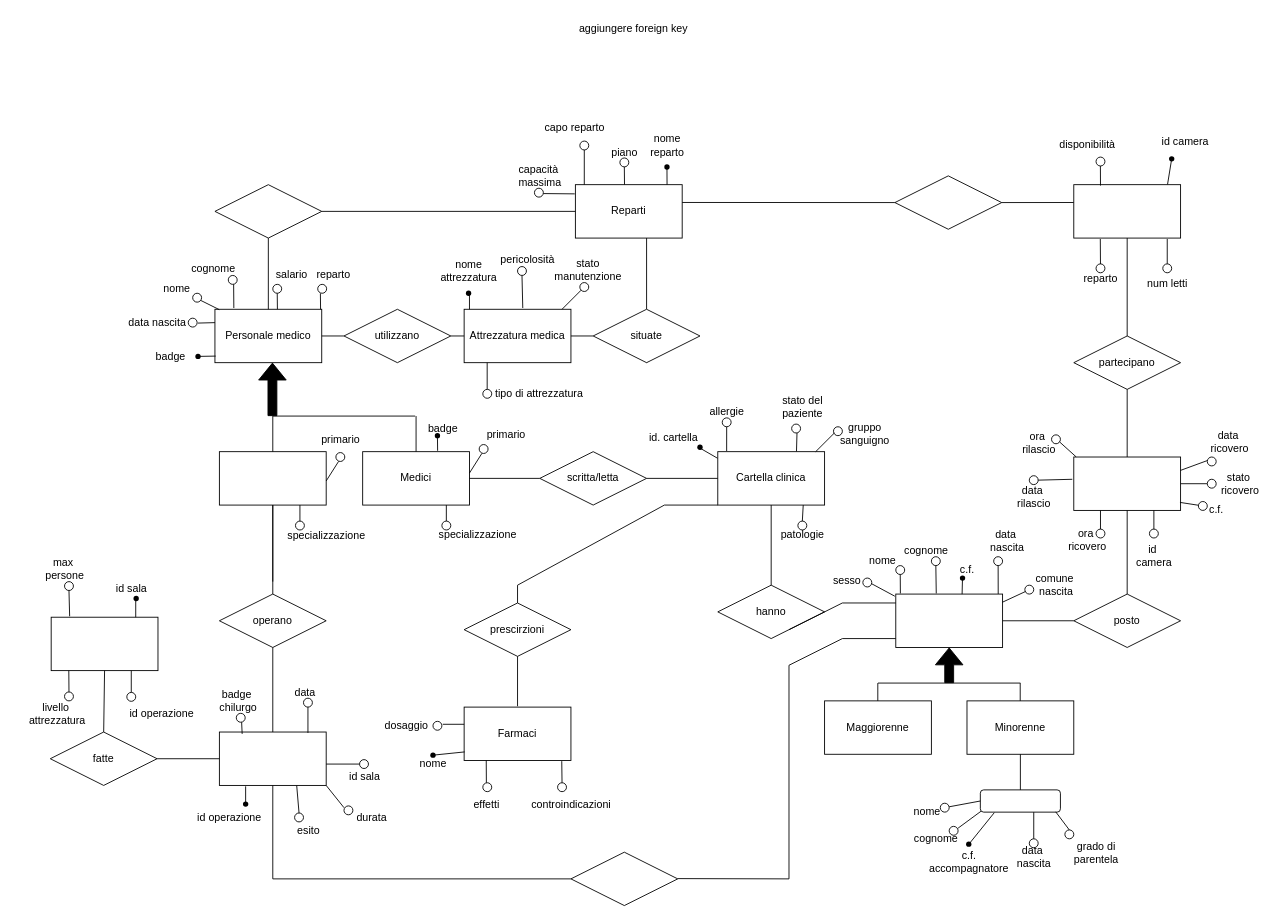
This 1284x921 diagram has some shape labels left out. Each missing label, with the centre of its shape:
accompagnatore: [1019,800]
Camere: [1127,211]
Chirurgi: [272,478]
lavora: [268,211]
Operazioni: [272,758]
Pazienti: [949,620]
Ricoveri: [1127,483]
Sale operatorie: [104,643]
situato: [948,202]
sottoposte: [624,878]
